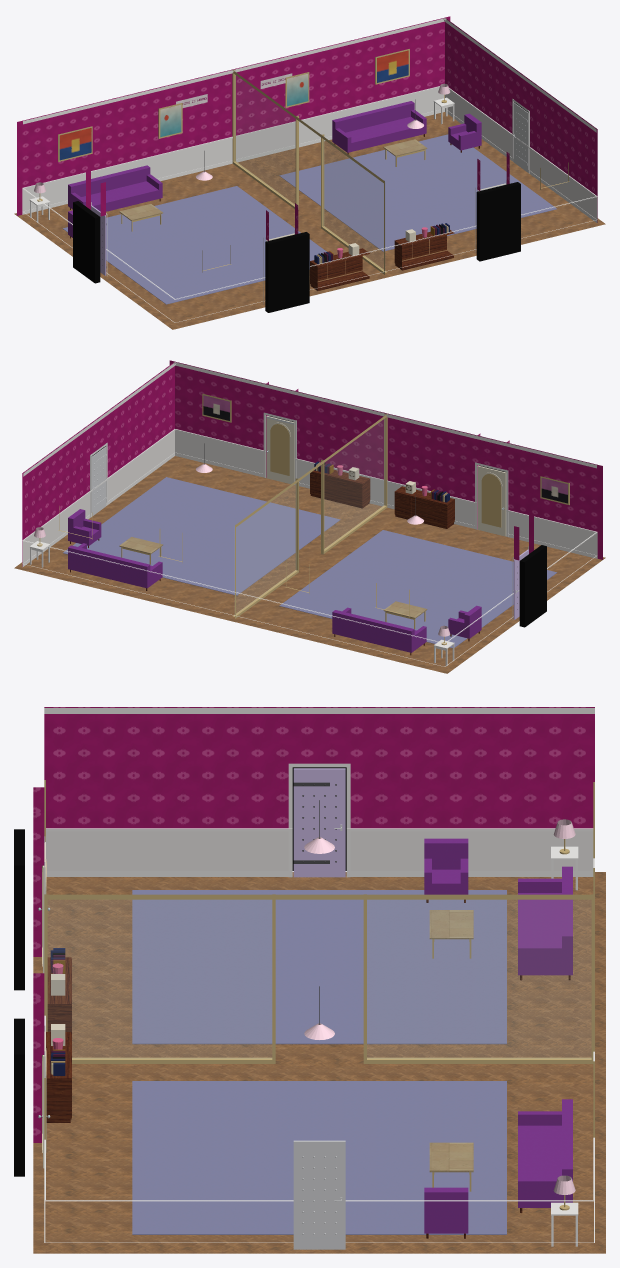
Rendered from rdwe_mirror_room.glb.
The picture shows the model from 3 angles, top to bottom: view 1: azimuth 30°, elevation 25°; view 2: azimuth 150°, elevation 25°; view 3: azimuth 270°, elevation 25°; orthographic projection. The views are drawn at different scales.
Visible parts, largest first — view 1: Paper_Magenta, Floor_Parquet, Mirror_World_Rug_Pink, Rug_Pink, Glass_Clear, Panel_White, Void_Black, Trim_White, Mirror_World_Velvet_Magenta, Frame_Gilt, Velvet_Magenta, Mirror_World_Wood_Dark (+9 smaller); view 2: Paper_Magenta, Floor_Parquet, Mirror_World_Rug_Pink, Rug_Pink, Glass_Clear, Panel_White, Trim_White, Mirror_World_Velvet_Magenta, Velvet_Magenta, Frame_Gilt, Void_Black, DoorLeaf_three (+10 smaller); view 3: Floor_Parquet, Glass_Clear, Paper_Magenta, Rug_Pink, Mirror_World_Rug_Pink, Panel_White, Trim_White, Frame_Gilt, Velvet_Magenta, Mirror_World_Velvet_Magenta, decor_Mirror_Door_Moon, DoorLeaf_moon (+9 smaller).
Boxes of the visible parts, x1=… form: Paper_Magenta: x1=17, y1=16, x2=597, y2=240; Floor_Parquet: x1=14, y1=112, x2=605, y2=329; Mirror_World_Rug_Pink: x1=279, y1=134, x2=556, y2=251; Rug_Pink: x1=62, y1=186, x2=327, y2=304; Glass_Clear: x1=235, y1=75, x2=383, y2=269; Panel_White: x1=22, y1=88, x2=597, y2=299; Void_Black: x1=73, y1=102, x2=528, y2=312; Trim_White: x1=22, y1=18, x2=597, y2=322; Mirror_World_Velvet_Magenta: x1=332, y1=101, x2=481, y2=152; Frame_Gilt: x1=58, y1=69, x2=386, y2=274; Velvet_Magenta: x1=68, y1=165, x2=162, y2=237; Mirror_World_Wood_Dark: x1=334, y1=134, x2=479, y2=270; Paper_Magenta: x1=22, y1=360, x2=602, y2=566; Floor_Parquet: x1=14, y1=456, x2=605, y2=673; Mirror_World_Rug_Pink: x1=63, y1=477, x2=340, y2=595; Rug_Pink: x1=279, y1=530, x2=557, y2=648; Glass_Clear: x1=236, y1=419, x2=384, y2=613; Panel_White: x1=22, y1=430, x2=597, y2=643; Trim_White: x1=22, y1=362, x2=597, y2=666; Mirror_World_Velvet_Magenta: x1=68, y1=509, x2=162, y2=588; Velvet_Magenta: x1=332, y1=605, x2=481, y2=652; Frame_Gilt: x1=233, y1=413, x2=569, y2=618; Void_Black: x1=91, y1=416, x2=546, y2=627; DoorLeaf_three: x1=477, y1=465, x2=506, y2=536; Floor_Parquet: x1=33, y1=872, x2=605, y2=1253; Glass_Clear: x1=48, y1=900, x2=590, y2=1058; Paper_Magenta: x1=33, y1=707, x2=594, y2=1142; Rug_Pink: x1=132, y1=890, x2=506, y2=1044; Mirror_World_Rug_Pink: x1=132, y1=1081, x2=506, y2=1234; Panel_White: x1=44, y1=831, x2=594, y2=1201; Trim_White: x1=44, y1=708, x2=594, y2=1242; Frame_Gilt: x1=44, y1=780, x2=594, y2=1063; Velvet_Magenta: x1=424, y1=838, x2=572, y2=975; Mirror_World_Velvet_Magenta: x1=424, y1=1099, x2=572, y2=1233; decor_Mirror_Door_Moon: x1=293, y1=1140, x2=345, y2=1249; DoorLeaf_moon: x1=293, y1=768, x2=345, y2=877.
Size of the model in its own units: 16.75 by 3.45 by 10.75.
Materials: 25 (11 with a texture image).
